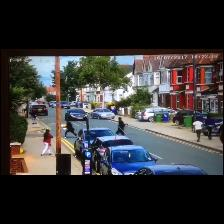person: (42, 130, 53, 156), (205, 115, 216, 139), (193, 119, 202, 142), (64, 121, 76, 138), (116, 118, 125, 135), (22, 103, 26, 113), (111, 106, 115, 114)
